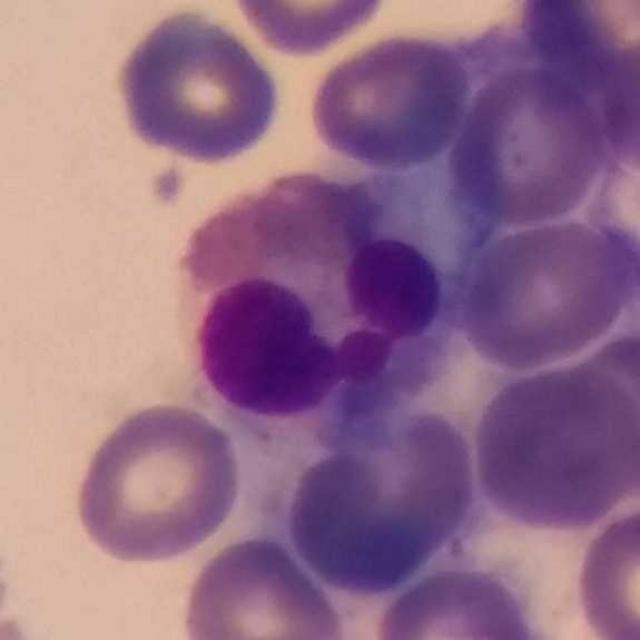eosino: (173, 166, 460, 444)
